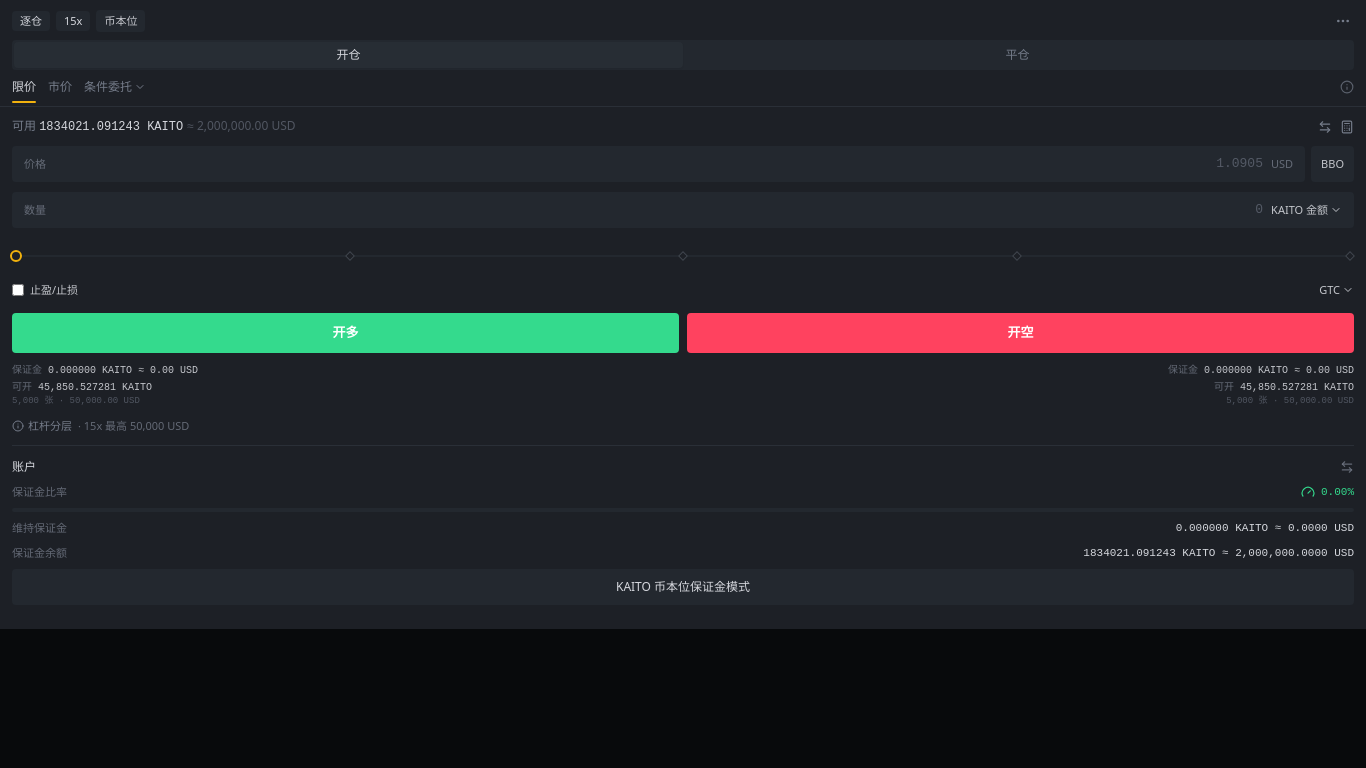
可开与仓位比例 › 拖到 100% 也拖不出一张过不了分层的单
This screenshot has width=1366, height=768.
Step 1. Click the button named "100%" → (1350, 256), box x1=1345 y1=251 x2=1355 y2=261
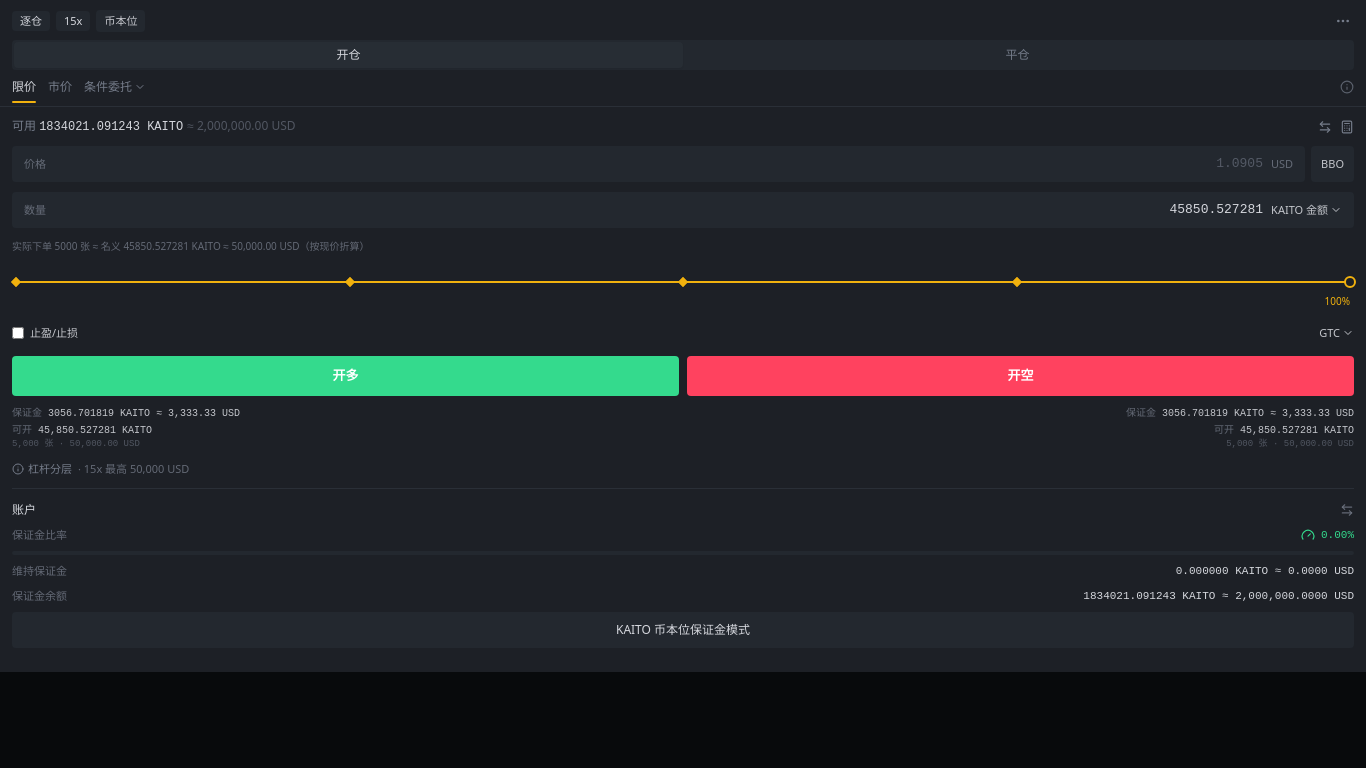
expect the button "开多" is enabled: met, box x1=12 y1=356 x2=679 y2=396
expect the text with test id "coin-effective-qty-hint" shows "实际下单 5000 张": met, box x1=12 y1=239 x2=370 y2=253
